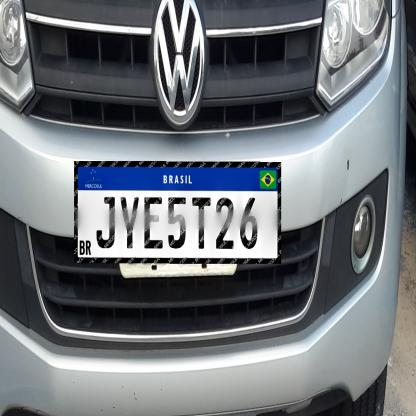PlacaM: (74, 161, 281, 264)
